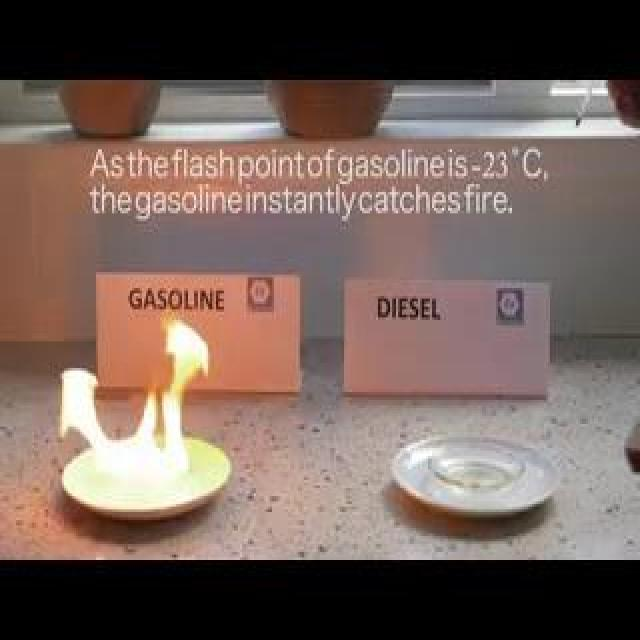Fire: (138, 152, 146, 434)
